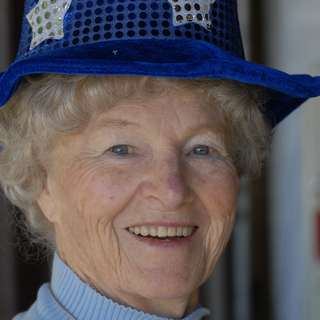eye: (96, 139, 143, 164), (179, 140, 224, 165)
